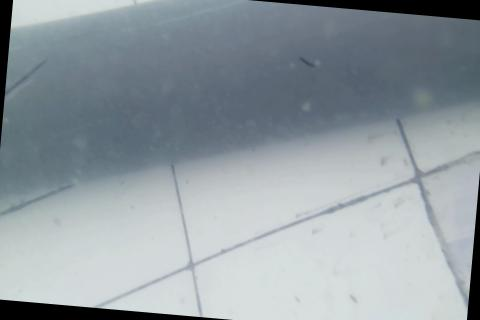keretakan: (4, 55, 48, 106), (299, 54, 317, 72)
